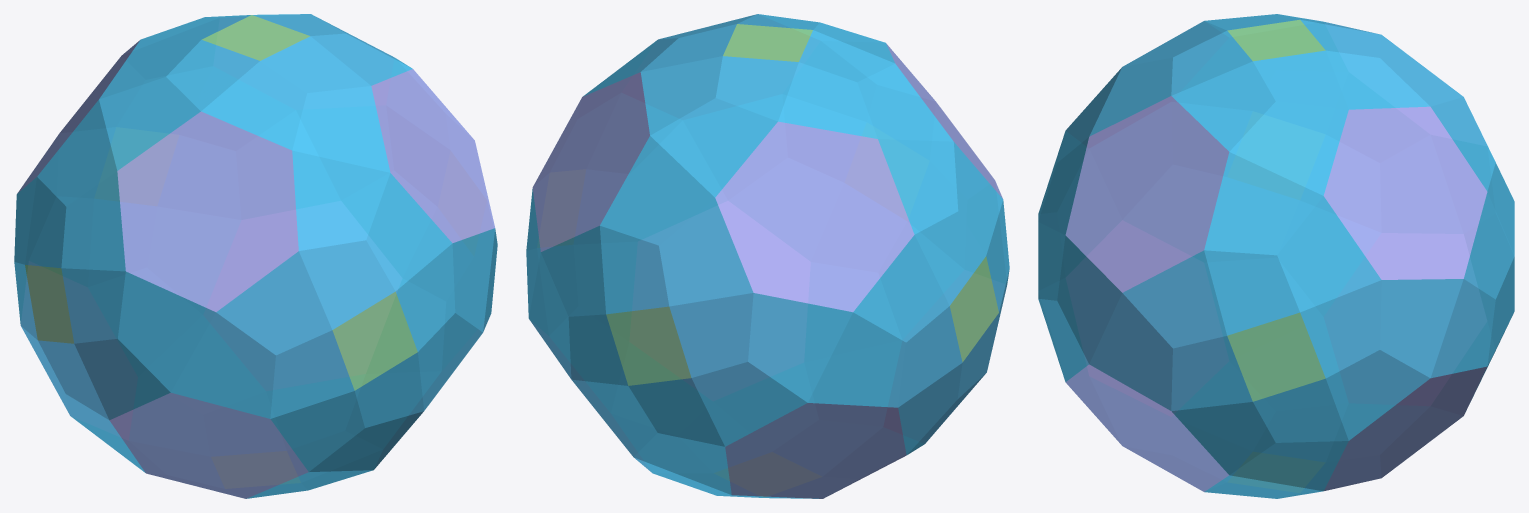
Rendered from PropellorTruncatedOctahedron.obj.
3 renders of one model, left to right at view 1: azimuth 30°, elevation 25°; view 2: azimuth 150°, elevation 25°; view 3: azimuth 270°, elevation 25°, orthographic.
Bounding box in the file's own units: 1.97 × 1.97 × 1.97.
